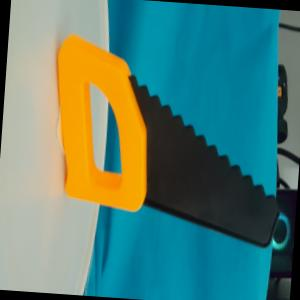serrote: (42, 29, 292, 249)
